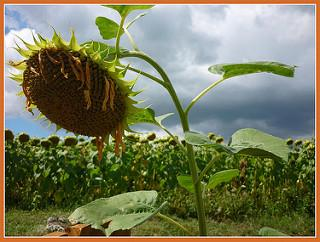sunflower: (4, 29, 146, 158)
